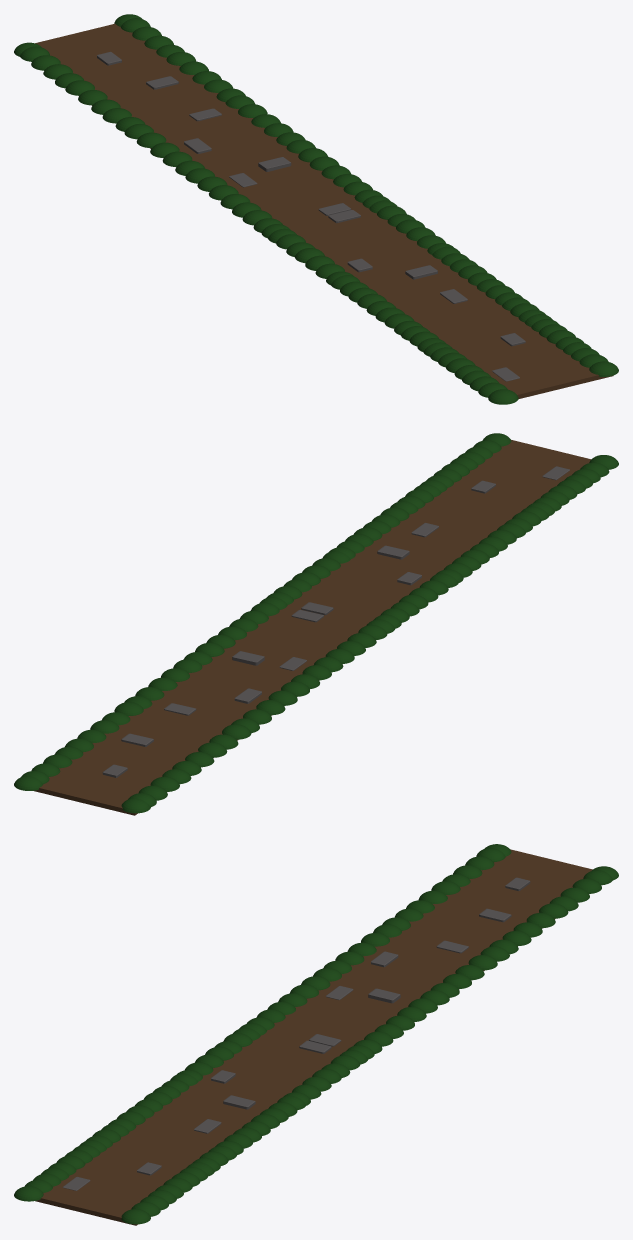
The model's file is Path1.fbx.
3 renders of one model, top to bottom at view 1: azimuth 30°, elevation 25°; view 2: azimuth 150°, elevation 25°; view 3: azimuth 330°, elevation 25°, orthographic.
Visible parts, largest first — view 1: Cube; view 2: Cube; view 3: Cube.
Part boxes in pixels (box(x1,y1,x2,y2)): Cube: box(35, 23, 613, 399); Cube: box(33, 440, 590, 815); Cube: box(35, 849, 592, 1225).
Size of the model in its own units: 672 by 53.38 by 4388.
